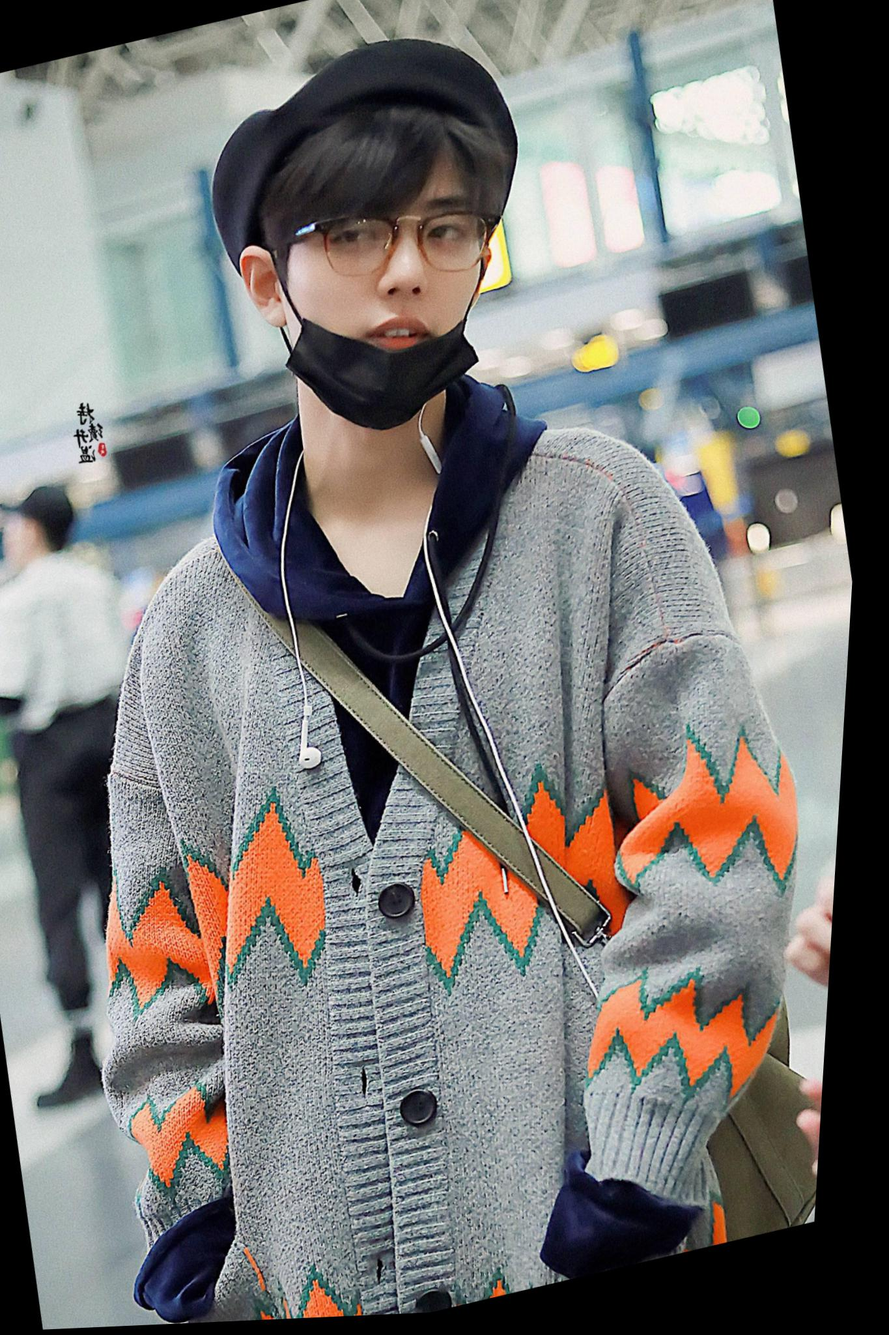WRONG: (259, 168, 522, 447)
